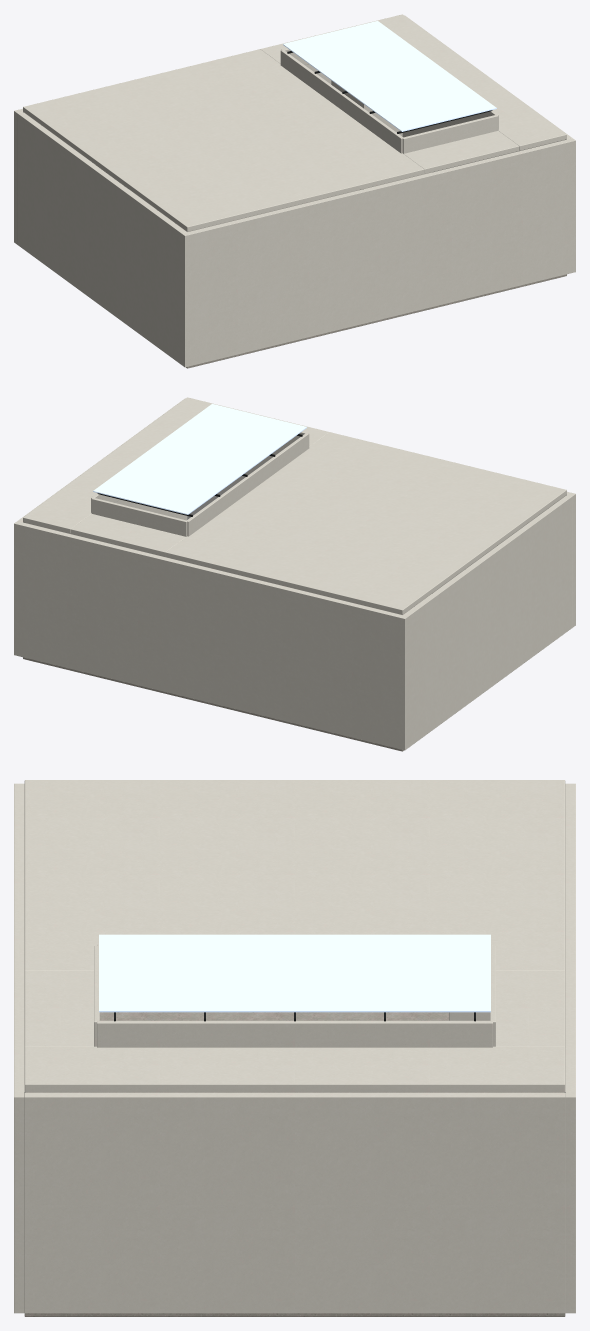
The model's file is white-cube-desktop.glb.
The picture shows the model from 3 angles, top to bottom: view 1: azimuth 30°, elevation 25°; view 2: azimuth 150°, elevation 25°; view 3: azimuth 270°, elevation 25°; orthographic projection. The views are drawn at different scales.
Visible parts, largest first — view 1: SHELL_south, OVERHEAD_Ceiling finish, SHELL_west, OVERHEAD_Rooflight diffuse sky, OVERHEAD_Mineral plaster, SHELL_Floor, SHELL_north, SHELL_east; view 2: SHELL_north, OVERHEAD_Ceiling finish, SHELL_west, OVERHEAD_Rooflight diffuse sky, OVERHEAD_Mineral plaster, SHELL_Floor, SHELL_south, SHELL_east; view 3: OVERHEAD_Ceiling finish, SHELL_east, OVERHEAD_Rooflight diffuse sky, OVERHEAD_Mineral plaster, SHELL_north, SHELL_south, SHELL_Floor.
Part boxes in pixels (x1,y1,x2,y2): SHELL_south: [181, 138, 575, 367]; OVERHEAD_Ceiling finish: [23, 14, 566, 231]; SHELL_west: [17, 112, 186, 364]; OVERHEAD_Rooflight diffuse sky: [283, 21, 496, 131]; OVERHEAD_Mineral plaster: [280, 48, 498, 153]; SHELL_Floor: [159, 172, 566, 368]; SHELL_north: [14, 15, 407, 244]; SHELL_east: [402, 18, 572, 172]; SHELL_north: [14, 521, 408, 750]; OVERHEAD_Ceiling finish: [23, 397, 566, 614]; SHELL_west: [403, 495, 572, 747]; OVERHEAD_Rooflight diffuse sky: [93, 404, 306, 514]; OVERHEAD_Mineral plaster: [91, 431, 309, 536]; SHELL_Floor: [23, 555, 430, 751]; SHELL_south: [182, 398, 575, 627]; SHELL_east: [17, 401, 187, 555]; OVERHEAD_Ceiling finish: [24, 780, 565, 1092]; SHELL_east: [24, 1092, 565, 1313]; OVERHEAD_Rooflight diffuse sky: [99, 934, 490, 1012]; OVERHEAD_Mineral plaster: [94, 944, 495, 1047]; SHELL_north: [565, 783, 575, 1313]; SHELL_south: [14, 783, 24, 1313]; SHELL_Floor: [24, 1012, 565, 1316].
Size of what is drawn, in the model's own units: 16.48 by 6.57 by 12.48.
12 materials, 8 textured.
